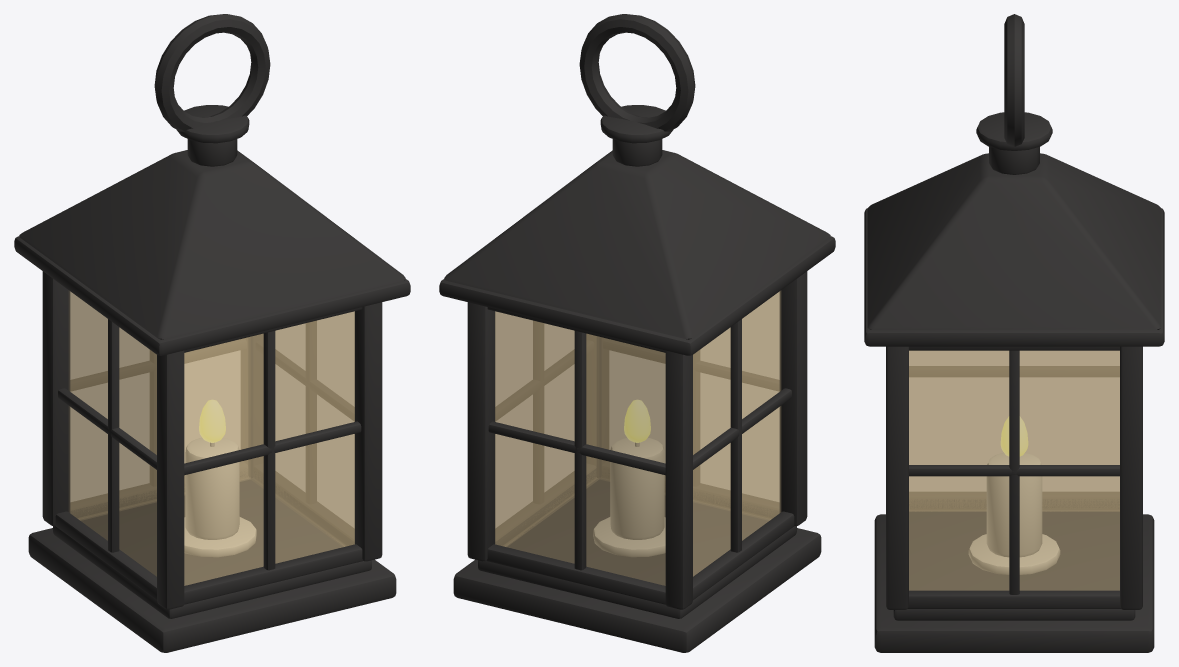
File: iron-lantern_final.glb
3 views of the same model, side by side, from view 1: azimuth 30°, elevation 25°; view 2: azimuth 150°, elevation 25°; view 3: azimuth 270°, elevation 25° (orthographic). The views are drawn at different scales.
Visible parts, largest first — view 1: SM_Lantern_Glass, SM_Lantern_Roof, SM_Lantern_Frame, SM_Lantern_Base, SM_Lantern_Candle, SM_Lantern_Ring, SM_Lantern_Flame; view 2: SM_Lantern_Glass, SM_Lantern_Roof, SM_Lantern_Frame, SM_Lantern_Base, SM_Lantern_Candle, SM_Lantern_Ring, SM_Lantern_Flame; view 3: SM_Lantern_Roof, SM_Lantern_Glass, SM_Lantern_Frame, SM_Lantern_Base, SM_Lantern_Candle, SM_Lantern_Ring, SM_Lantern_Flame.
Part boxes in pixels (bbox=[...]): SM_Lantern_Glass: bbox=[69, 291, 354, 585]; SM_Lantern_Roof: bbox=[14, 105, 410, 355]; SM_Lantern_Frame: bbox=[42, 271, 382, 609]; SM_Lantern_Base: bbox=[28, 478, 396, 652]; SM_Lantern_Candle: bbox=[184, 438, 256, 556]; SM_Lantern_Ring: bbox=[154, 14, 270, 131]; SM_Lantern_Flame: bbox=[199, 400, 225, 442]; SM_Lantern_Glass: bbox=[495, 291, 780, 585]; SM_Lantern_Roof: bbox=[439, 105, 835, 355]; SM_Lantern_Frame: bbox=[467, 271, 807, 609]; SM_Lantern_Base: bbox=[453, 478, 821, 652]; SM_Lantern_Candle: bbox=[593, 438, 665, 556]; SM_Lantern_Ring: bbox=[579, 14, 695, 131]; SM_Lantern_Flame: bbox=[624, 400, 650, 442]; SM_Lantern_Roof: bbox=[864, 112, 1164, 346]; SM_Lantern_Glass: bbox=[909, 350, 1119, 590]; SM_Lantern_Frame: bbox=[886, 346, 1142, 609]; SM_Lantern_Base: bbox=[874, 510, 1154, 652]; SM_Lantern_Candle: bbox=[969, 453, 1059, 574]; SM_Lantern_Ring: bbox=[1004, 14, 1024, 146]; SM_Lantern_Flame: bbox=[1001, 417, 1027, 456].
Bounding box in the file's own units: 0.236 × 0.5 × 0.236.
